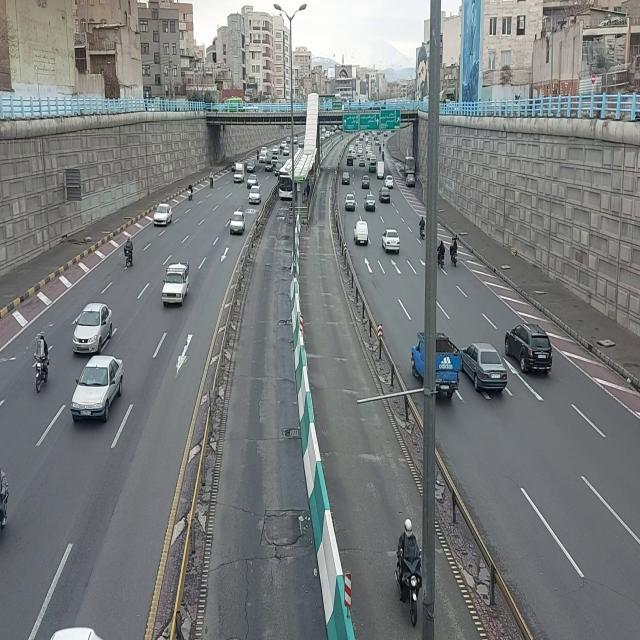Bus: (277, 155, 295, 205)
Car: (70, 350, 126, 428), (459, 335, 509, 395), (504, 320, 552, 378), (69, 300, 117, 357), (151, 198, 173, 230), (381, 225, 401, 255), (229, 209, 247, 239), (361, 191, 377, 217), (377, 185, 393, 207), (249, 184, 263, 209), (343, 191, 357, 215)
Motorcycle: (396, 517, 422, 627), (33, 331, 51, 396), (123, 231, 139, 273), (449, 236, 461, 266), (437, 239, 447, 267), (185, 182, 197, 201)
Pickup: (160, 255, 192, 313), (353, 217, 369, 250), (232, 160, 246, 186), (377, 160, 385, 184)
